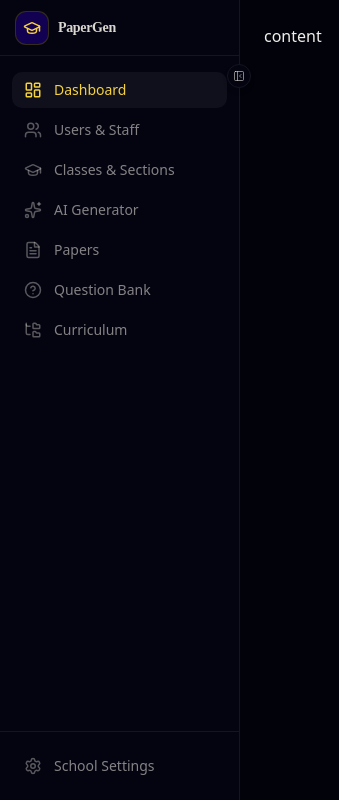
Test: DashboardShell sidebar collapse › exposes an accessible name and state on the toggle
Click the button named "Collapse sidebar" at (239, 76), box x1=227 y1=64 x2=251 y2=88
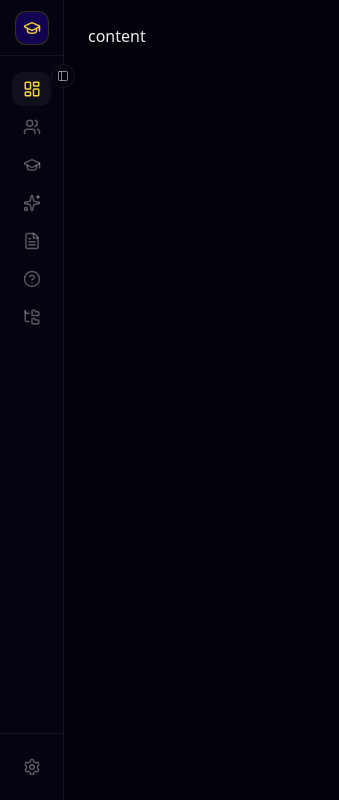
Now the button named "Collapse sidebar" is collapsed, box x1=51 y1=64 x2=75 y2=88
